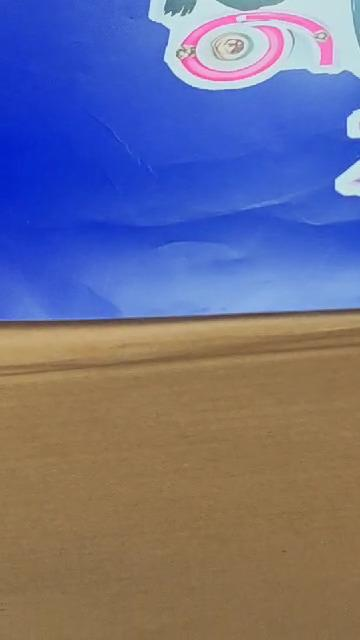B_R1: (139, 0, 360, 237)
